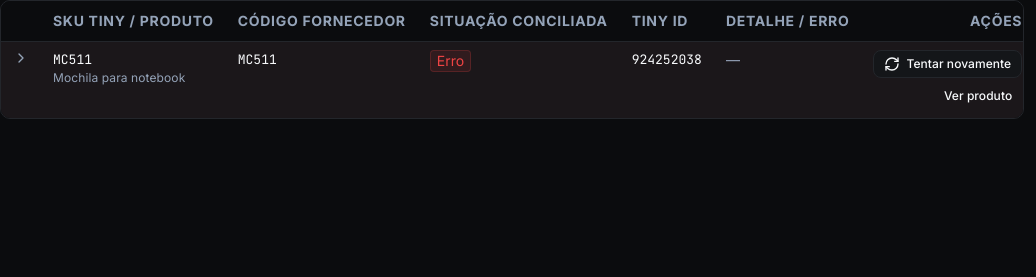
Test: ExecucaoProdutosTabela › expandir a linha busca e mostra os logs técnicos daquele SKU
The image size is (1036, 277).
Click the button named "Ver mensagem técnica completa". click: coordinates (21, 58)
box: top-left (13, 50), bottom-right (29, 66)
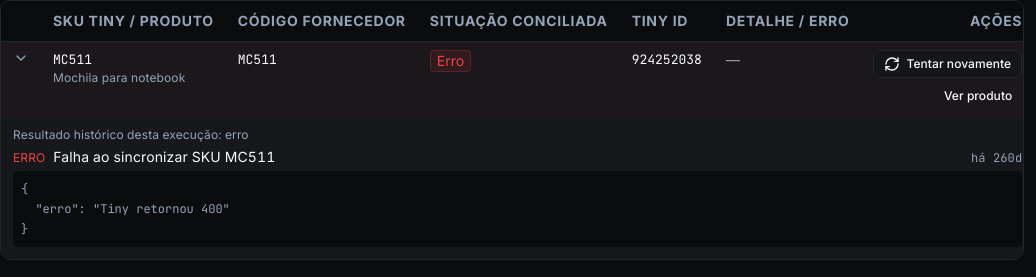
Check: the text "{ \"erro\": \"Tiny retornou 400\" }" is shown, box top-left (13, 170), bottom-right (1022, 246)
